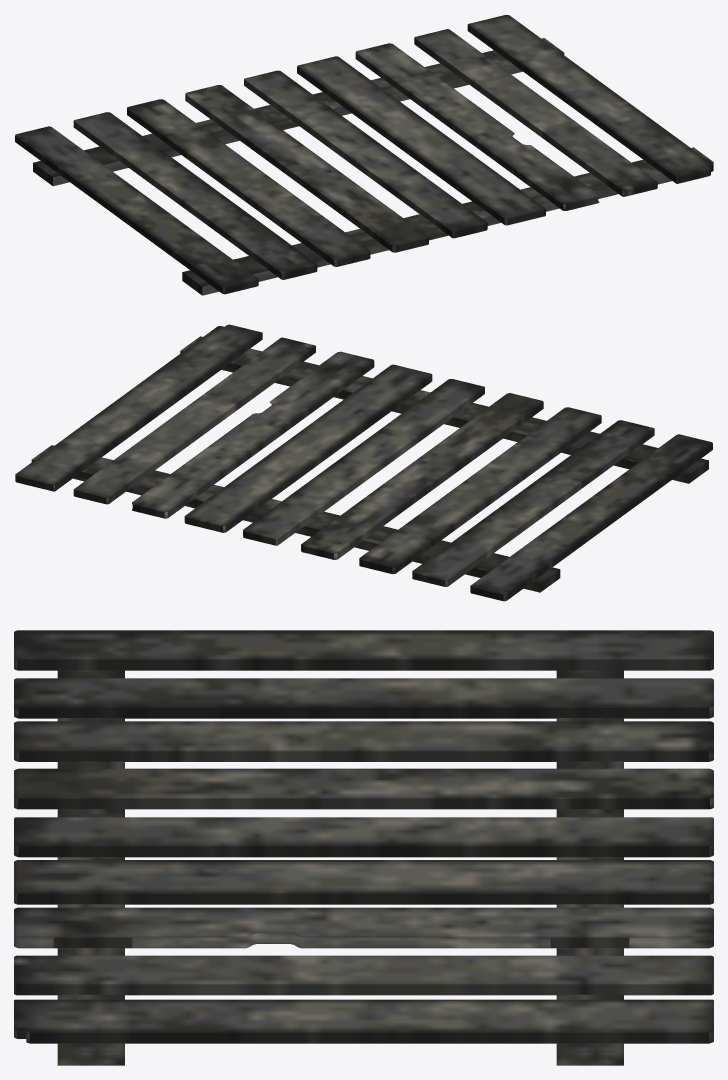
The model's file is SM_EC_Fence_06.fbx.
3 views of the same model, one above another, from view 1: azimuth 30°, elevation 25°; view 2: azimuth 150°, elevation 25°; view 3: azimuth 270°, elevation 25° (orthographic). The views are drawn at different scales.
Visible parts, largest first — view 1: SM_EC_Fence_06; view 2: SM_EC_Fence_06; view 3: SM_EC_Fence_06.
Part boxes in pixels (x1,y1,x2,y2): SM_EC_Fence_06: [15, 15, 713, 295]; SM_EC_Fence_06: [15, 324, 712, 601]; SM_EC_Fence_06: [14, 630, 713, 1065].
Bounding box in the file's own units: 1.5 × 1.07 × 0.0425.
